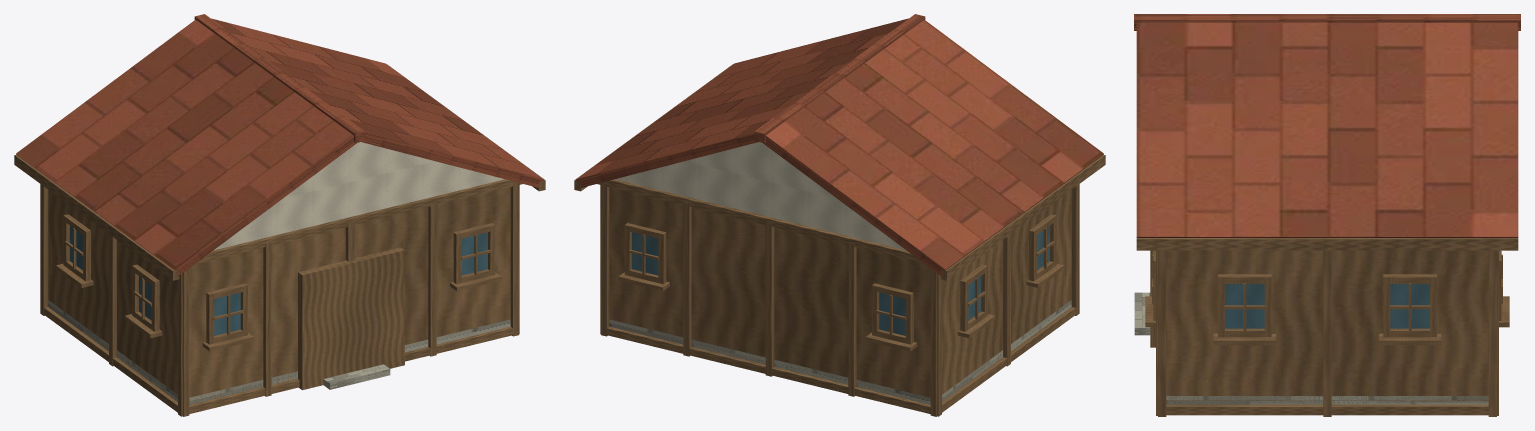
3 renders of one model, left to right at view 1: azimuth 30°, elevation 25°; view 2: azimuth 150°, elevation 25°; view 3: azimuth 270°, elevation 25°, orthographic. The views are drawn at different scales.
Parts seen in each view (by area): view 1: house-wood, house-roof, house-plaster, house-stone, house-glass; view 2: house-wood, house-roof, house-plaster, house-stone, house-glass; view 3: house-roof, house-wood, house-stone, house-glass.
Boxes of the visible parts, <box> form: house-wood: <box>14,64,545,416</box>; house-roof: <box>16,14,543,276</box>; house-plaster: <box>214,142,504,250</box>; house-stone: <box>48,300,510,404</box>; house-glass: <box>70,226,487,335</box>; house-wood: <box>574,64,1105,416</box>; house-roof: <box>576,14,1103,276</box>; house-plaster: <box>615,142,905,250</box>; house-stone: <box>609,300,1071,404</box>; house-glass: <box>632,226,1049,335</box>; house-roof: <box>1134,14,1520,237</box>; house-wood: <box>1136,238,1518,416</box>; house-stone: <box>1134,292,1488,404</box>; house-glass: <box>1225,284,1429,328</box>.
Size of the model in its own units: 10.18 by 6.52 by 7.6.
5 materials, 5 textured.
